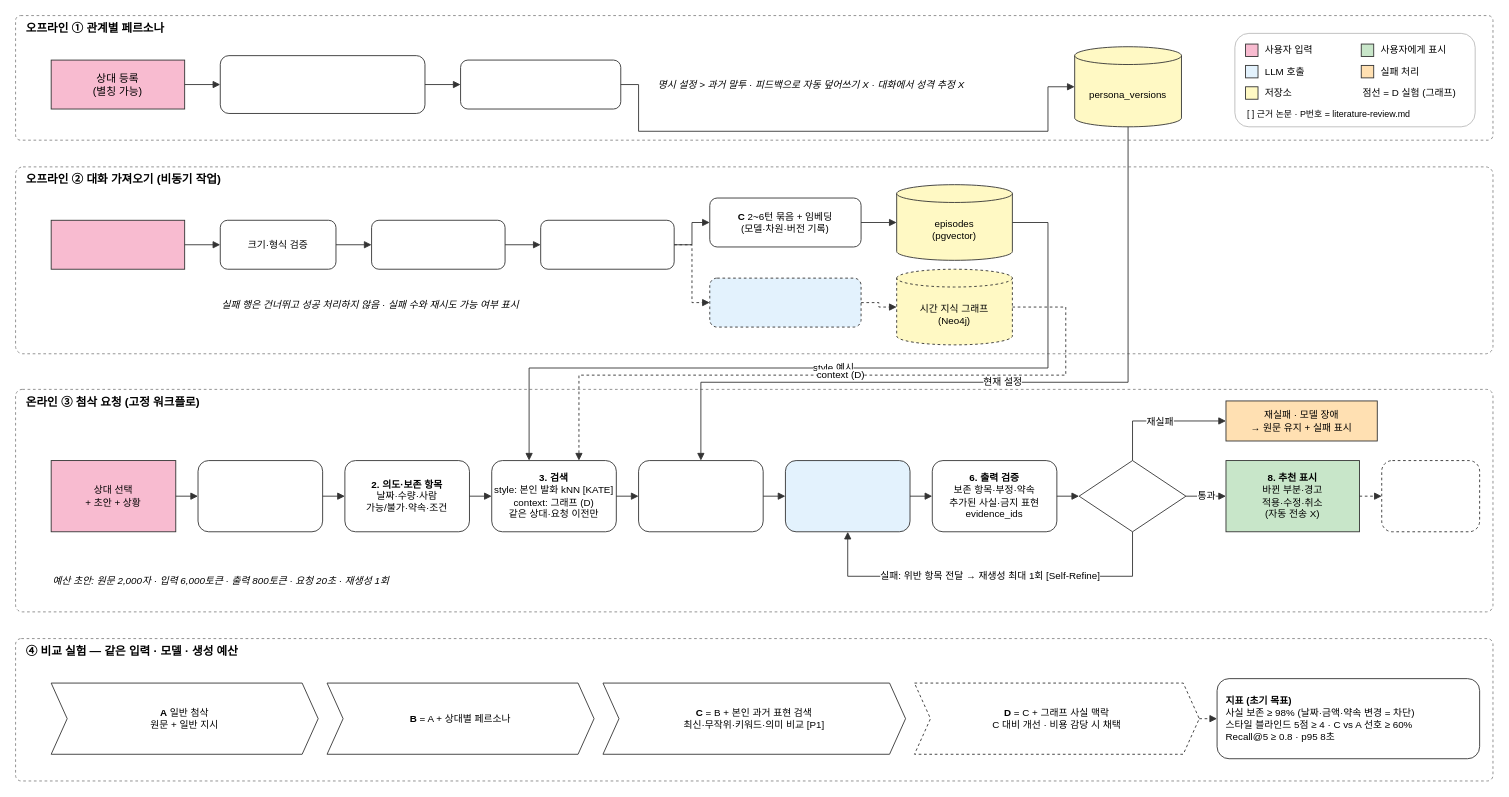
The diagram is 1509 pixels wide and 797 high, and some of its shapes have lost their labels. Here are the shapes that lost their labels. From the top down, the centre of each, then its label:
At (322,84): "관계별 설정 격식·친근함·직접성·길이 이모지·선호/금지 표현".
At (540,84): "버전 저장 (기대 버전으로 충돌 감지)".
At (117,244): "대화 파일 업로드 (UTF-8 텍스트·JSON)".
At (438,244): "파싱 · 화자 확인 (본인 / 상대)".
At (607,244): "비식별화 · 중복 제거 (해시 + 원본 식별자)".
At (785,302): "D Graphiti add_episode() 엔티티·사실·무효화 [Zep]".
At (260,496): "1. 요청 검증 인증·소유권 빈 원문·길이".
At (700,496): "4. 프롬프트 조립 규칙 → 설정 → 원문 → 예시 (사실 근거 X)".
At (847,496): "5. LLM 첨삭 구조화 출력 text·reasons·evidence".
At (1132,496): "7. 통과?".
At (1430,496): "피드백 기록 (동의 시)".
